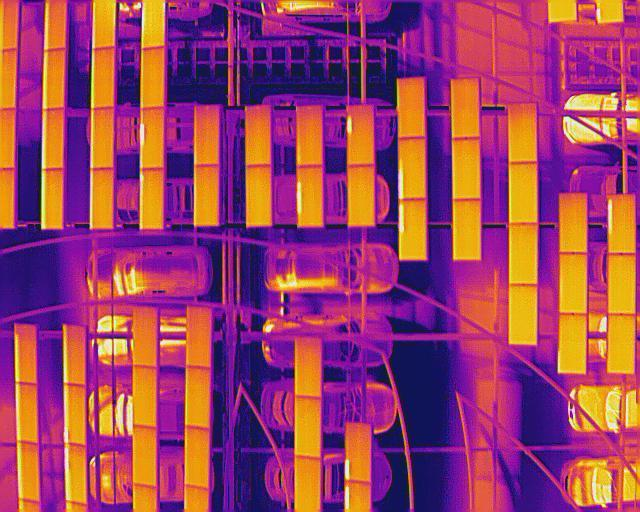Cell: (140, 170, 164, 230)
No-Anomaly: (449, 78, 481, 137), (556, 314, 587, 374), (451, 139, 481, 200), (508, 285, 538, 346), (395, 76, 425, 137), (507, 103, 537, 163), (294, 395, 322, 459), (508, 163, 537, 224), (607, 254, 636, 315), (294, 336, 322, 399), (508, 224, 537, 284), (452, 200, 481, 260), (558, 193, 587, 253), (606, 315, 635, 374), (559, 253, 587, 314), (347, 166, 375, 227), (186, 304, 212, 369), (183, 426, 209, 490), (131, 424, 157, 488), (296, 105, 323, 166), (245, 103, 271, 166), (293, 456, 322, 512), (245, 166, 272, 226), (132, 306, 158, 367), (186, 366, 211, 429), (41, 50, 67, 110), (194, 103, 219, 165), (13, 323, 37, 386), (194, 165, 219, 225), (140, 48, 165, 108), (90, 168, 114, 228), (133, 367, 157, 427), (40, 109, 64, 168), (17, 441, 39, 503), (40, 169, 63, 228), (91, 108, 113, 168), (16, 383, 38, 443), (91, 48, 113, 107), (43, 0, 68, 50), (140, 0, 165, 49), (91, 0, 115, 48)
Unclassified: (397, 200, 427, 259), (605, 195, 635, 254), (397, 138, 426, 199), (344, 421, 373, 482), (347, 103, 375, 166), (296, 166, 323, 226), (140, 108, 164, 169), (62, 324, 85, 387), (63, 384, 85, 446), (64, 443, 85, 504)
